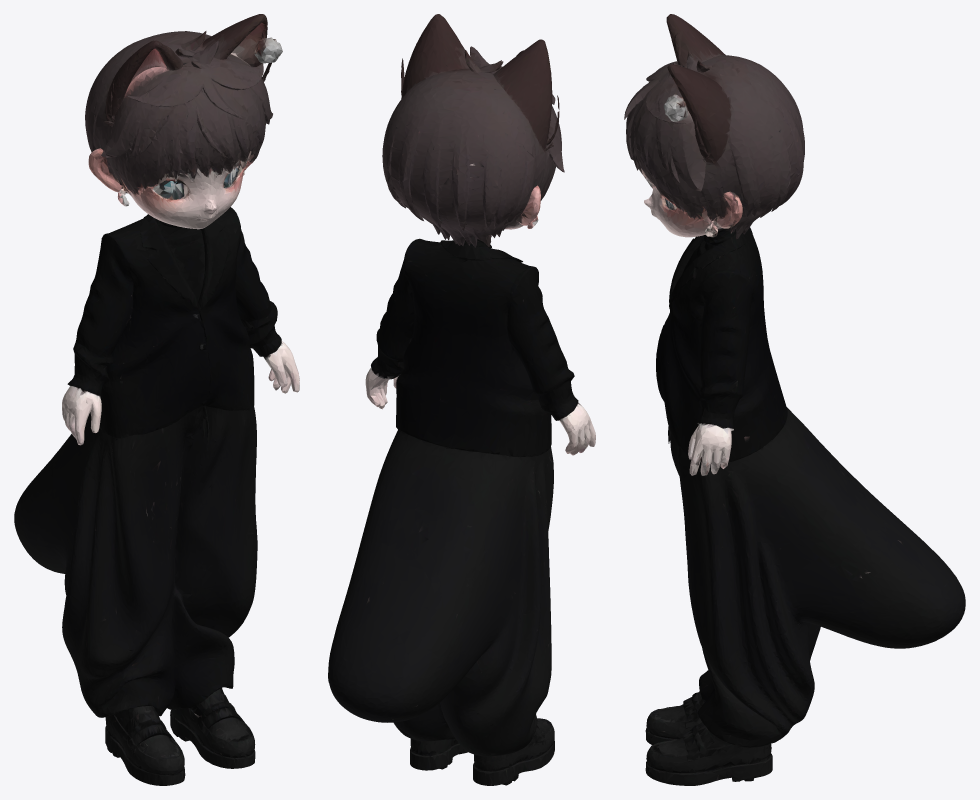
Rendered from hero_boy_suit.glb.
The picture shows the model from 3 angles, left to right: view 1: azimuth 30°, elevation 25°; view 2: azimuth 150°, elevation 25°; view 3: azimuth 270°, elevation 25°; orthographic projection. The views are drawn at different scales.
Size of the model in its own units: 0.3183 by 1 by 0.427.
Materials: 1 (1 with a texture image).
